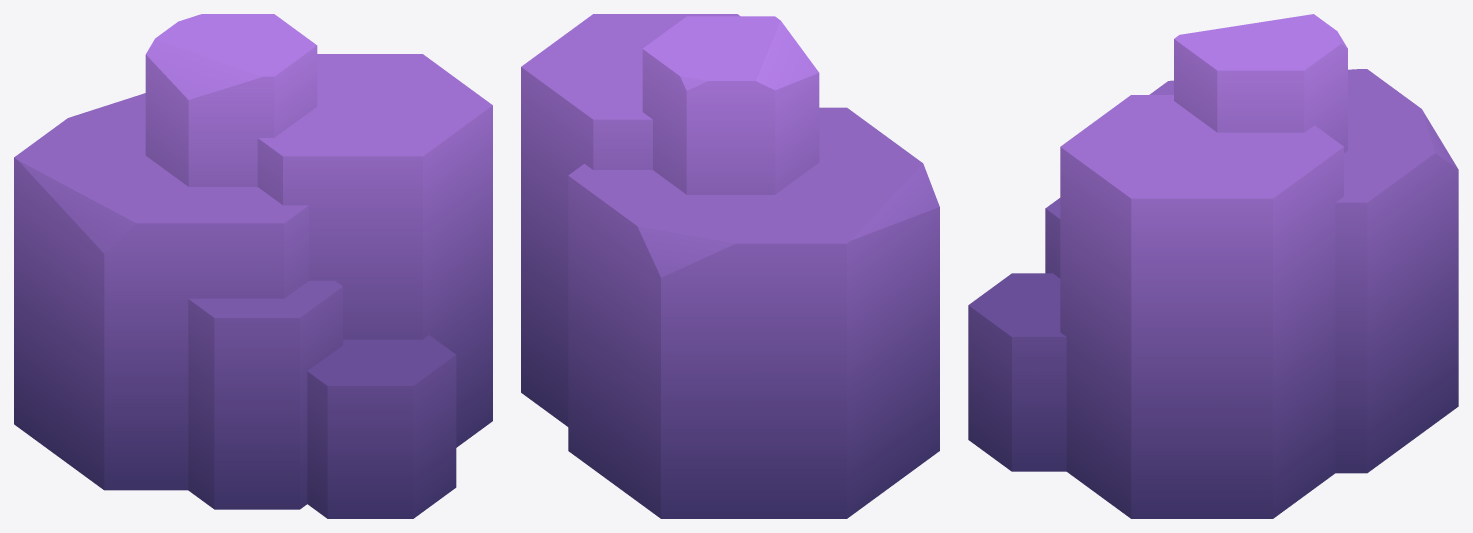
Rendered from Crystal_P_12.glb.
The picture shows the model from 3 angles, left to right: view 1: azimuth 30°, elevation 25°; view 2: azimuth 150°, elevation 25°; view 3: azimuth 270°, elevation 25°; orthographic projection. The views are drawn at different scales.
Visible parts, largest first — view 1: crystal_12; view 2: crystal_12; view 3: crystal_12.
Boxes of the visible parts, x1,y1,x2,y2 form: crystal_12: [14, 14, 492, 518]; crystal_12: [521, 14, 939, 518]; crystal_12: [968, 14, 1458, 518].
Size of the model in its own units: 0.8654 by 0.8608 by 1.
1 material, 1 textured.
